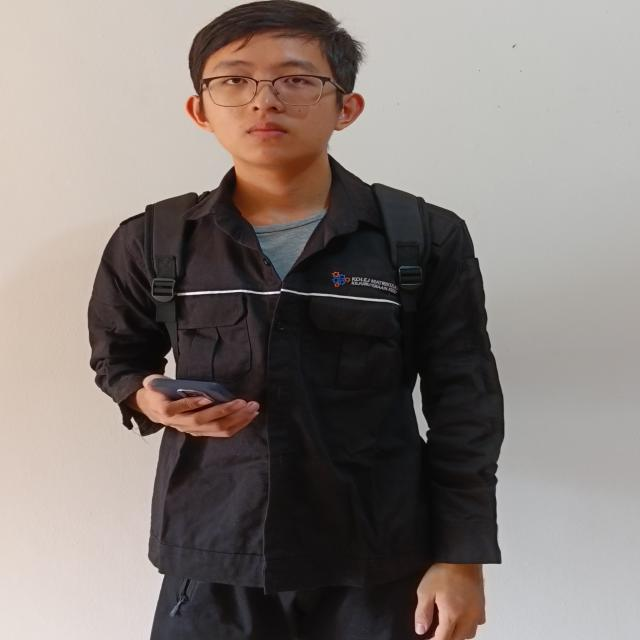person_with_labcoat: (88, 0, 503, 640)
